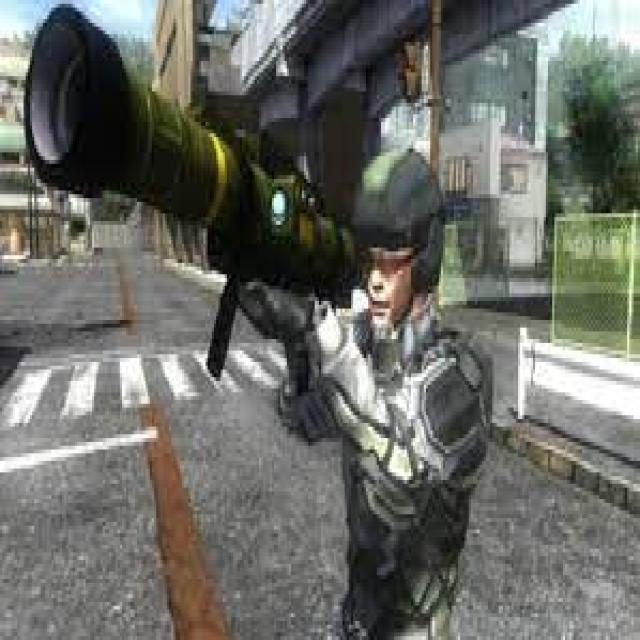bazooka: (20, 1, 377, 360)
